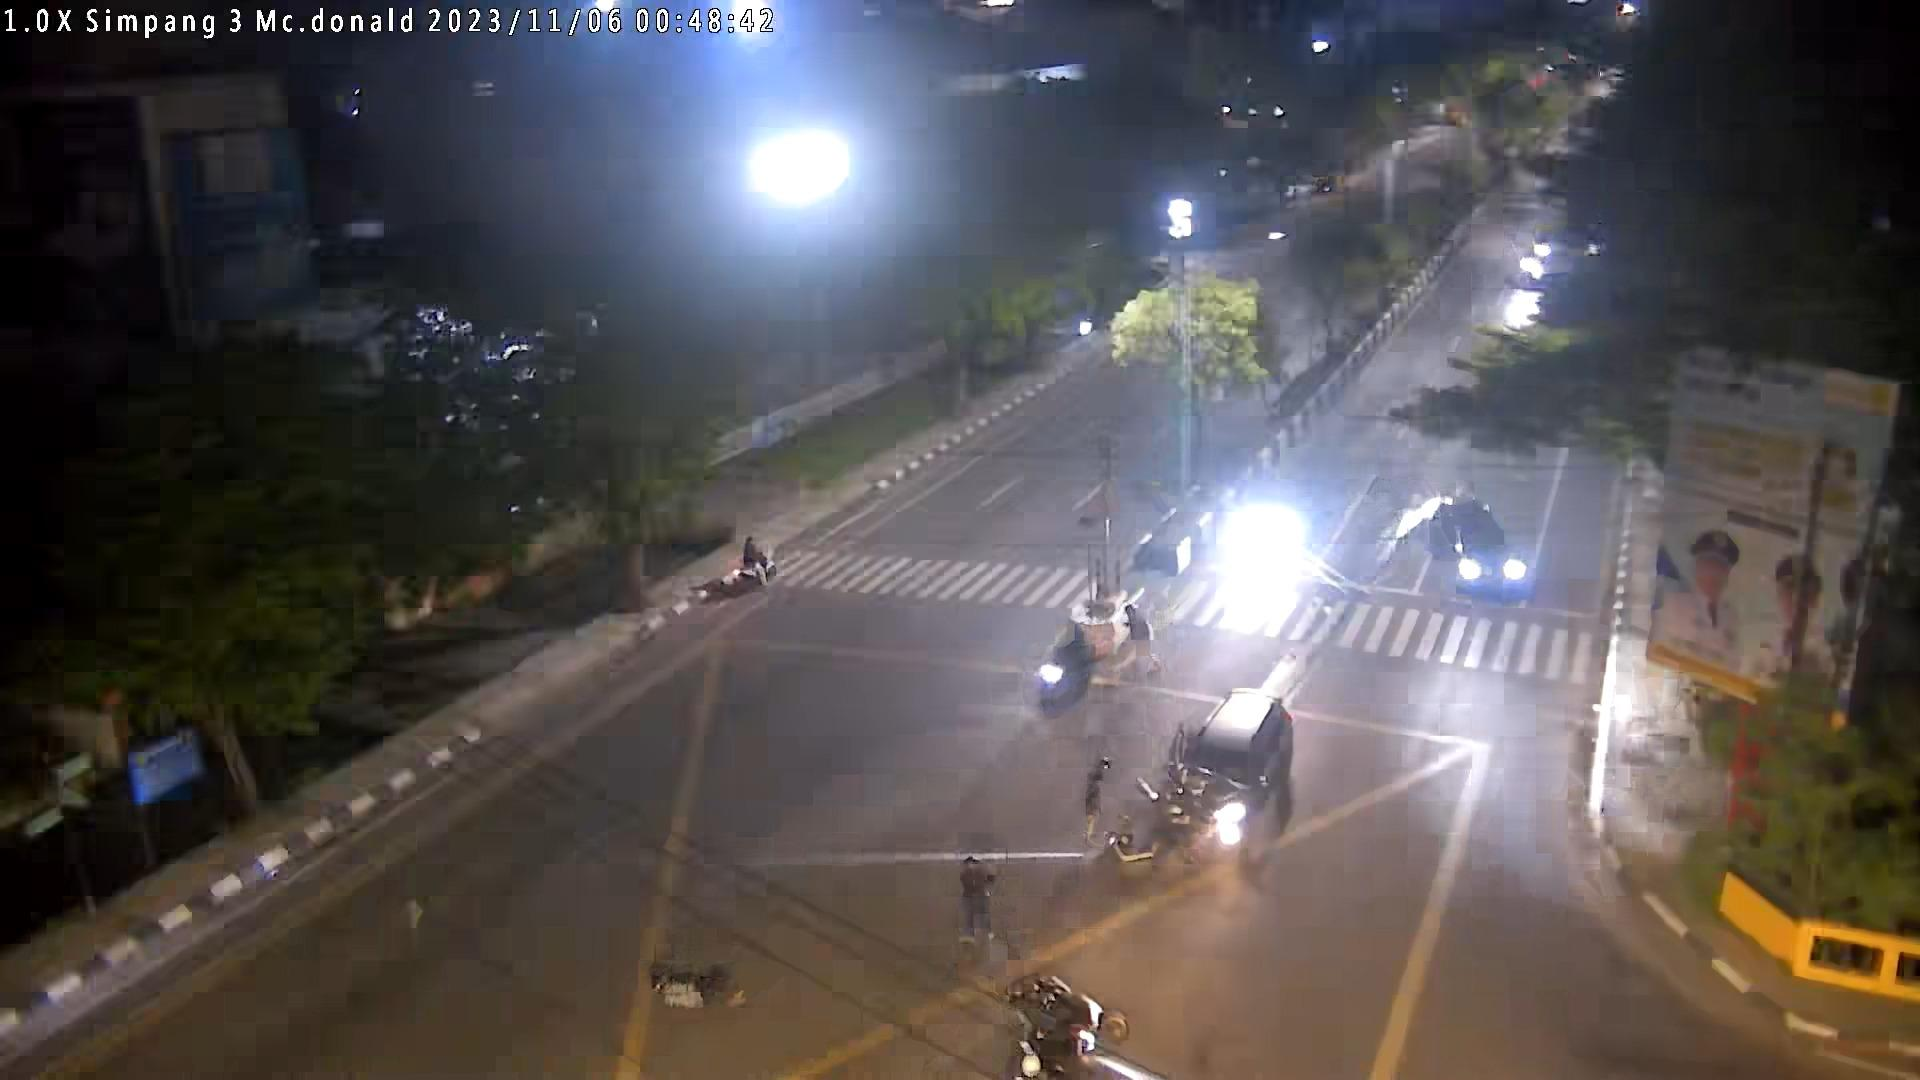accident: (649, 964, 746, 1011)
